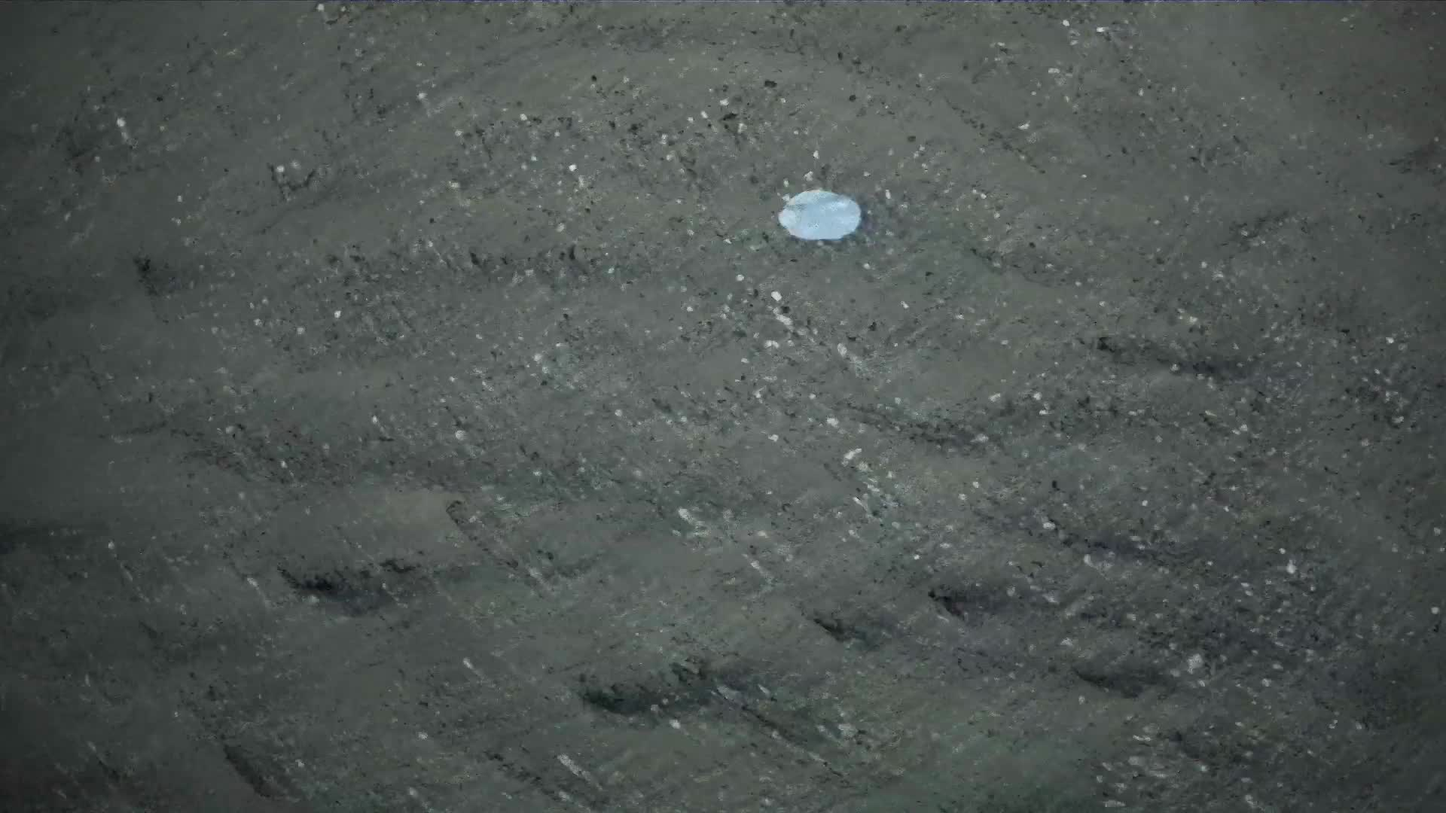Target: (773, 183, 868, 249)
